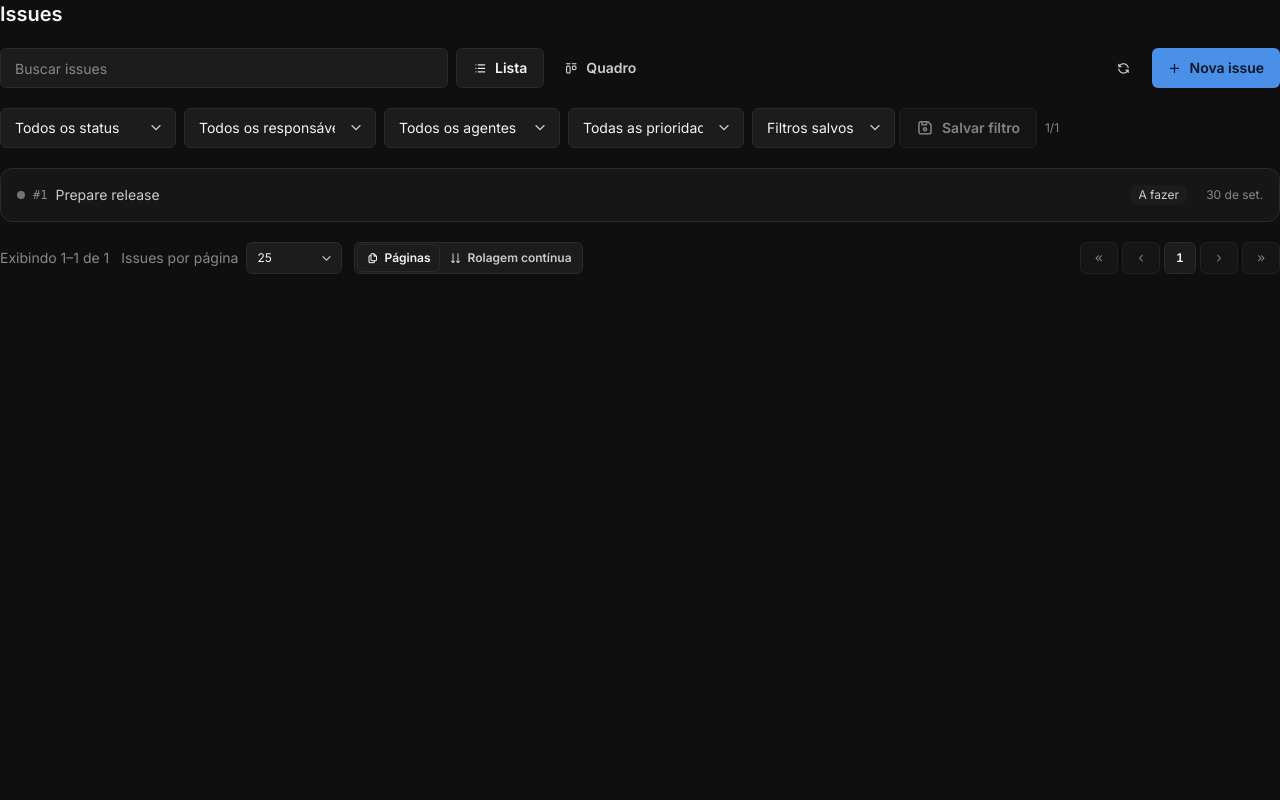
WorkView › formats agent run output as rich content
The image size is (1280, 800).
Click the button "#1 Prepare release" at (108, 194), box [17,181,1118,209]
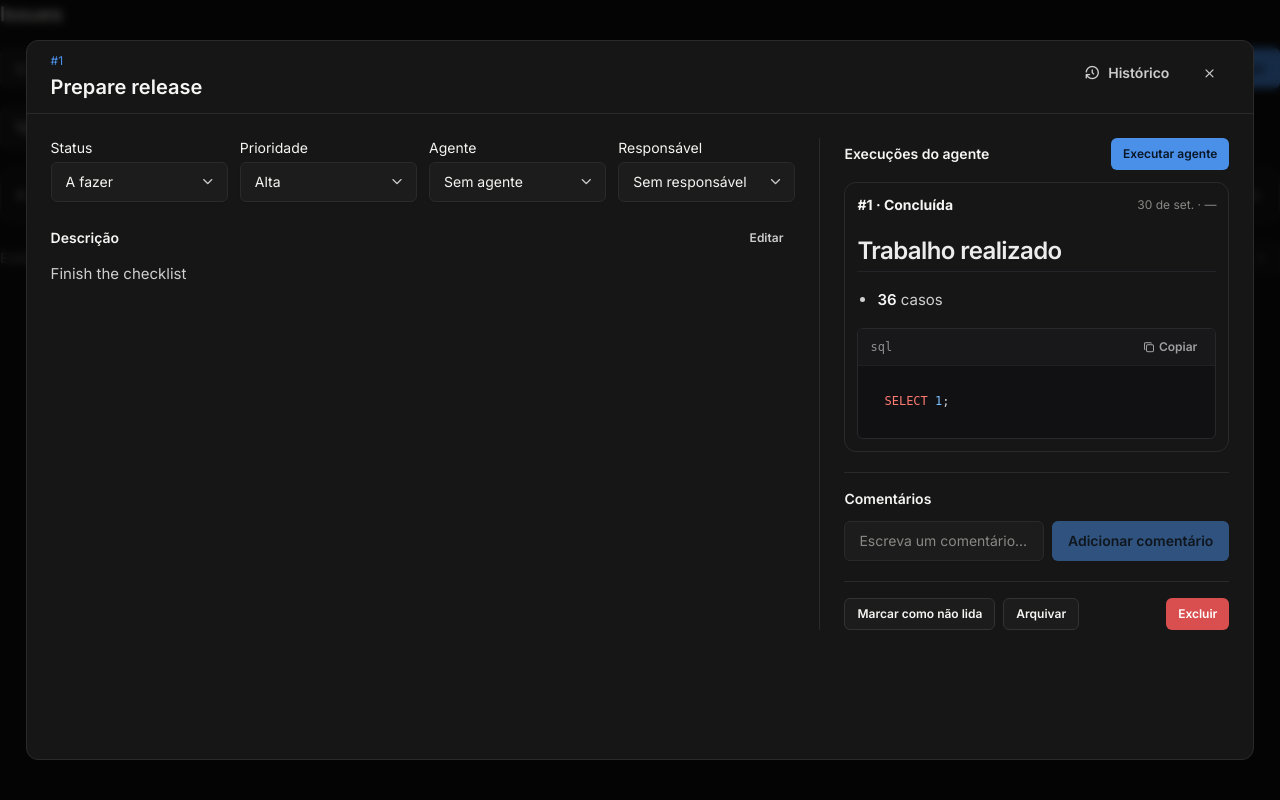
Now the heading "Trabalho realizado" is shown, box [858,223,1216,272]
Now the text "sql" is shown, box [870,339,892,355]
Now the text with class "hljs-keyword" reads "SELECT", box [884,394,928,408]
